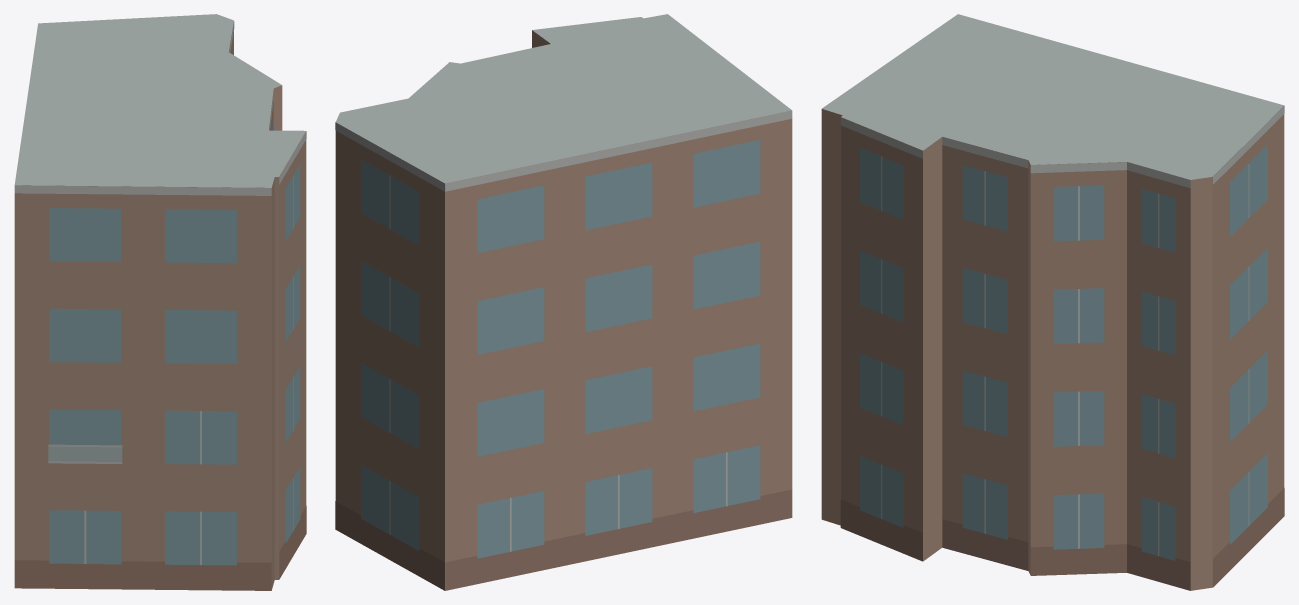
The model's file is survey-upis-32499187.glb.
The picture shows the model from 3 angles, left to right: view 1: azimuth 30°, elevation 25°; view 2: azimuth 150°, elevation 25°; view 3: azimuth 270°, elevation 25°; orthographic projection.
Visible parts, largest first — view 1: survey-upis-32499187.tmp; view 2: survey-upis-32499187.tmp; view 3: survey-upis-32499187.tmp.
Boxes of the visible parts, x1=… form: survey-upis-32499187.tmp: x1=14, y1=14, x2=306, y2=590; survey-upis-32499187.tmp: x1=335, y1=14, x2=792, y2=590; survey-upis-32499187.tmp: x1=821, y1=14, x2=1284, y2=590.
Bounding box in the file's own units: 10.49 × 12.1 × 12.36.
